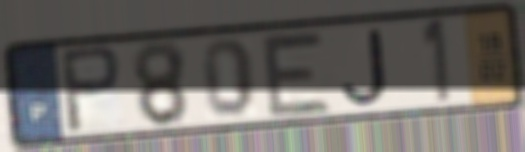0: (199, 35, 258, 123)
1: (418, 15, 454, 107)
8: (130, 37, 192, 131)
E: (257, 30, 335, 120)
J: (339, 26, 392, 108)
P: (57, 43, 124, 136)
